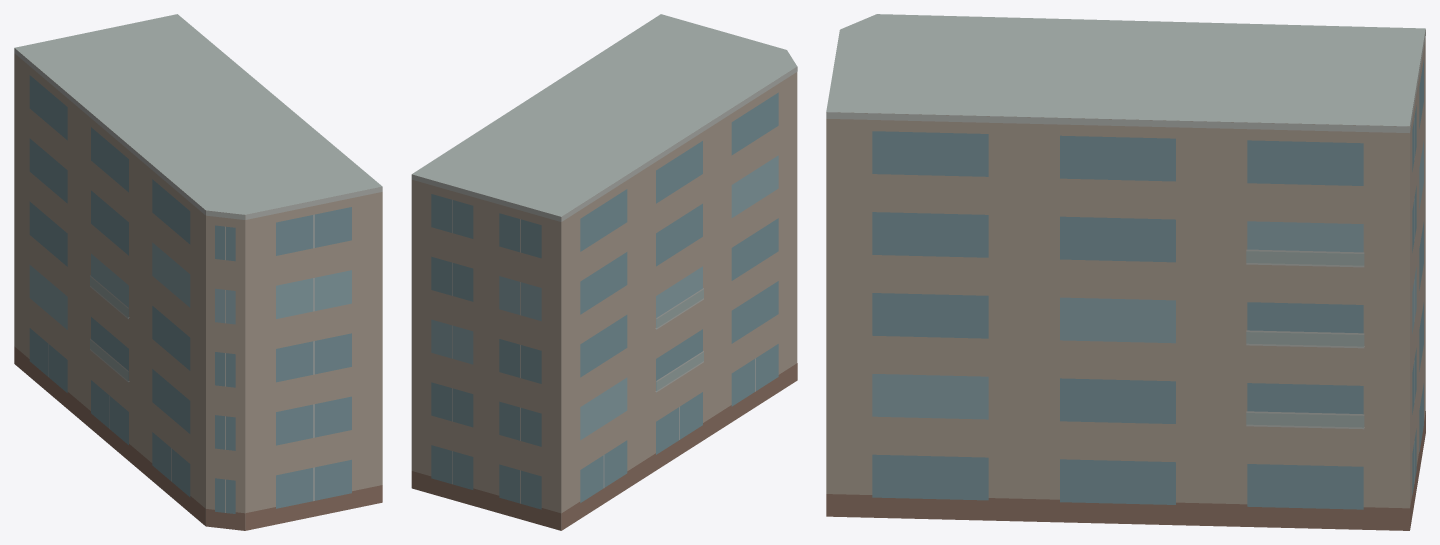
File: survey-upis-32920503.glb
The picture shows the model from 3 angles, left to right: view 1: azimuth 30°, elevation 25°; view 2: azimuth 150°, elevation 25°; view 3: azimuth 270°, elevation 25°; orthographic projection. The views are drawn at different scales.
Visible parts, largest first — view 1: survey-upis-32920503.tmp; view 2: survey-upis-32920503.tmp; view 3: survey-upis-32920503.tmp.
Part boxes in pixels (box(x1,y1,x2,y2)): survey-upis-32920503.tmp: box(14, 14, 382, 530); survey-upis-32920503.tmp: box(411, 14, 797, 530); survey-upis-32920503.tmp: box(826, 14, 1425, 530).
Bounding box in the file's own units: 8.77 × 14.7 × 19.76.
